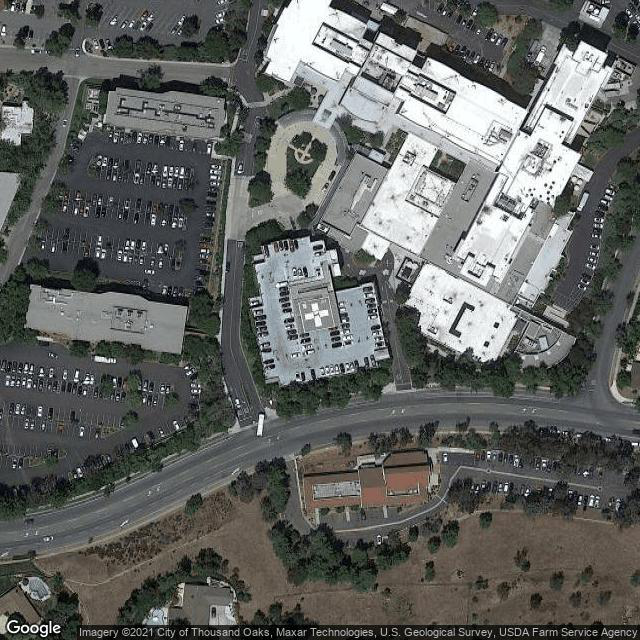Helipad: (298, 296, 337, 331)
